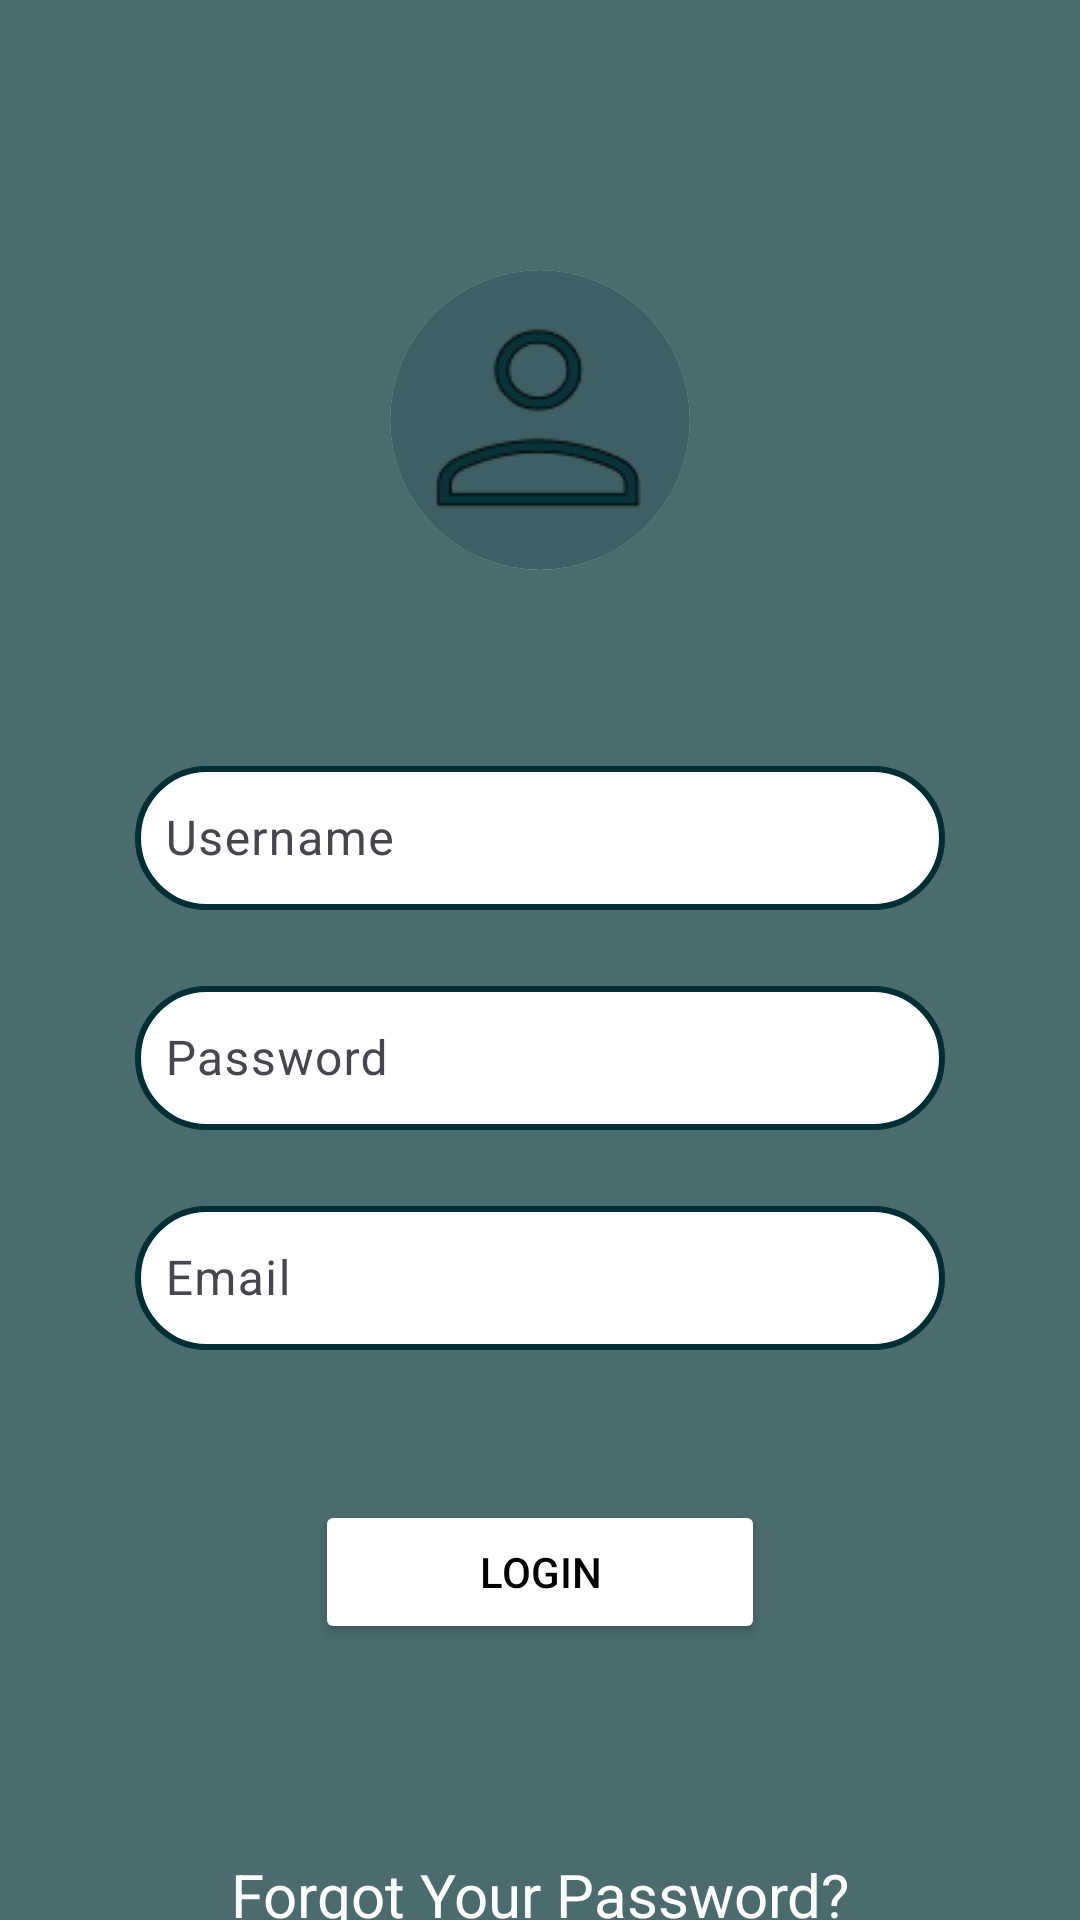

Icon click points for this 1080px x 1920px phone screenshot, format point (x, y):
User Icon: point (540, 420)
